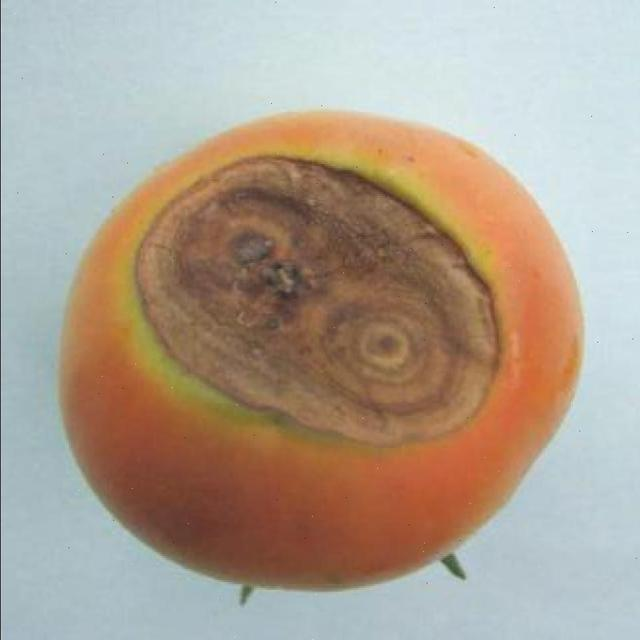Blossom End Rot Fruit: (86, 100, 335, 299)
